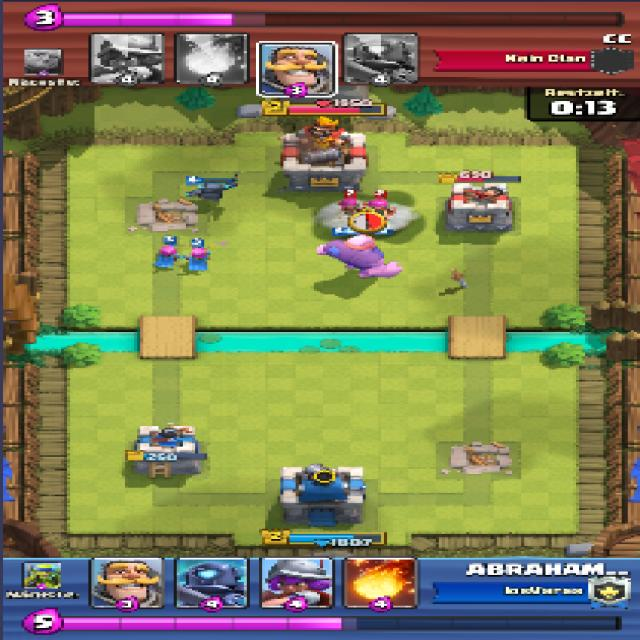Enemy-Archer: (363, 198, 400, 219), (337, 196, 364, 218)
Player-Archer: (185, 245, 212, 273), (154, 245, 181, 268)
Player-Giant: (313, 235, 403, 278)
Player-MiniPEKKA: (182, 180, 236, 200)
